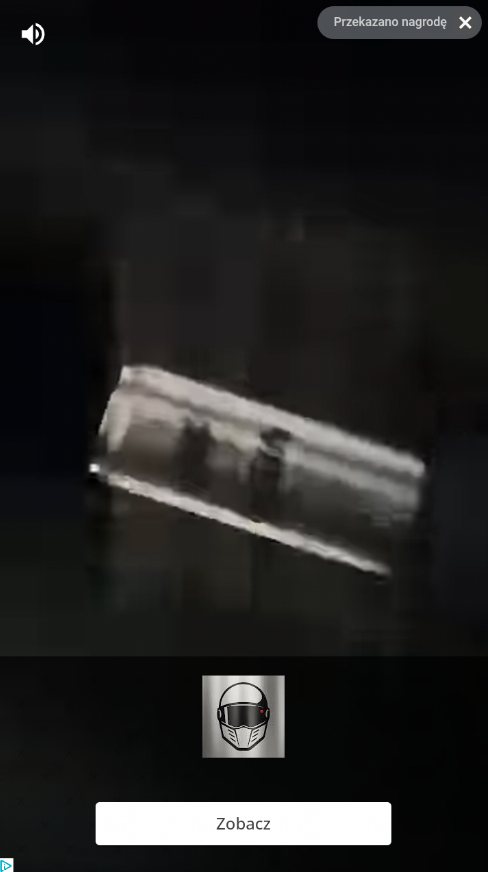close_button: (458, 14, 474, 33)
